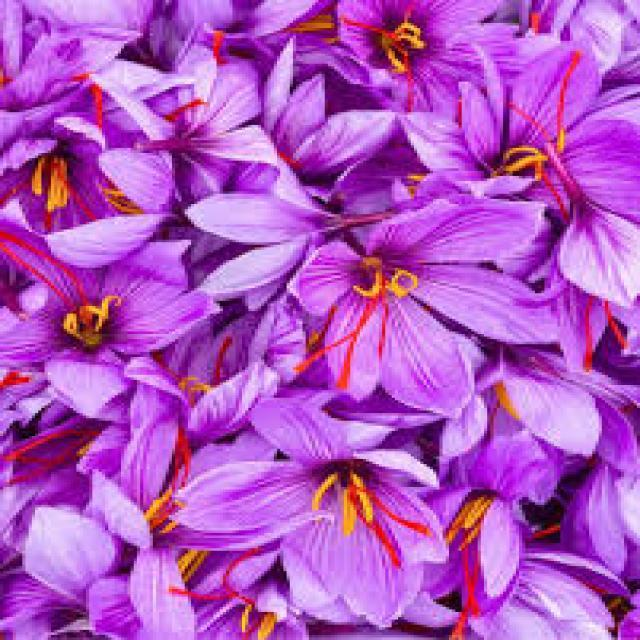Flower: (204, 411, 442, 619), (302, 220, 552, 400), (4, 228, 199, 384), (312, 0, 545, 112), (2, 93, 148, 227)
stigma: (142, 398, 192, 549), (0, 234, 82, 316), (0, 419, 101, 465), (550, 42, 586, 156), (449, 546, 485, 640), (338, 301, 372, 392), (376, 490, 432, 538), (361, 521, 410, 573), (578, 287, 602, 379), (372, 300, 401, 362), (85, 66, 109, 136), (163, 586, 265, 600)
